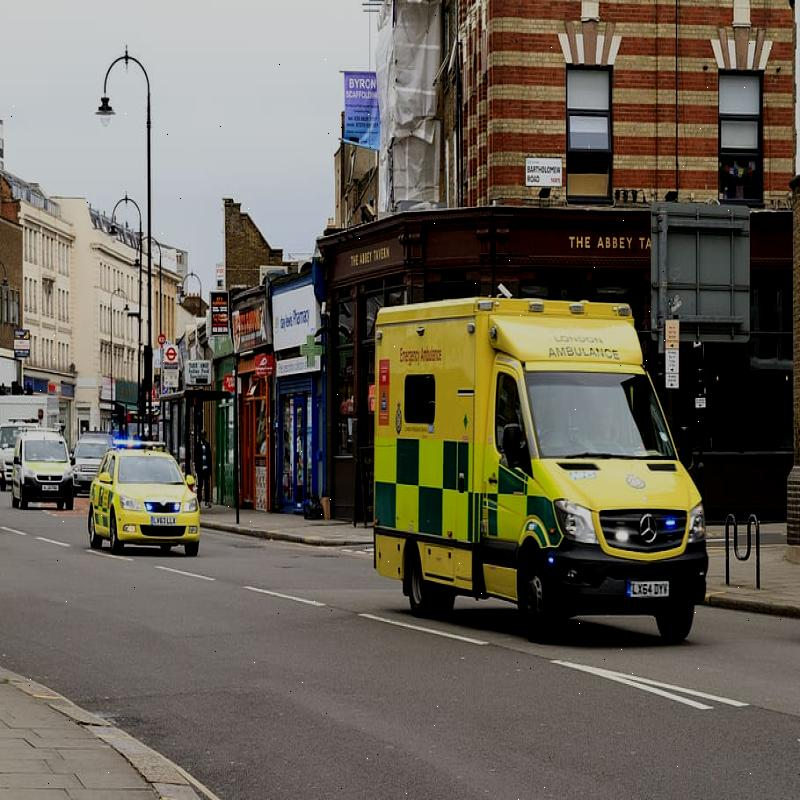ambulance: (358, 327, 692, 647)
